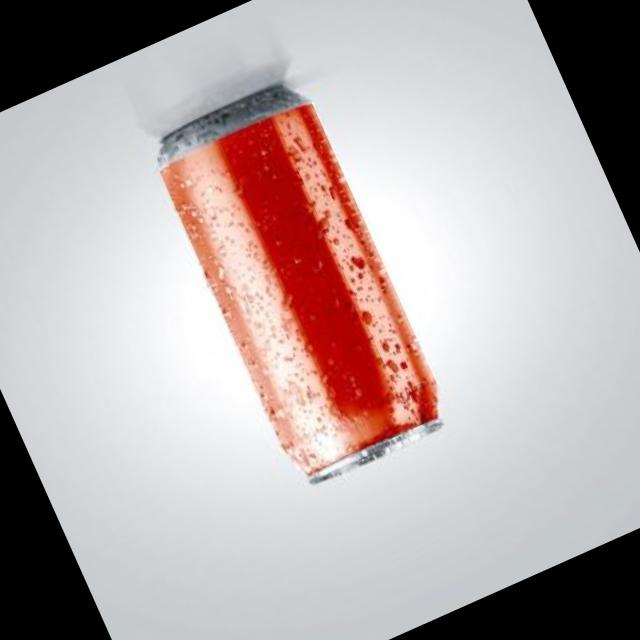Kaleng: (142, 72, 458, 498)
